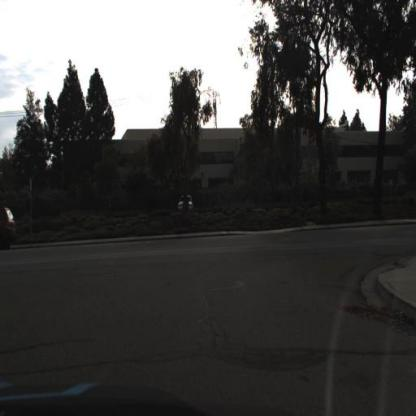car: (178, 192, 196, 217)
